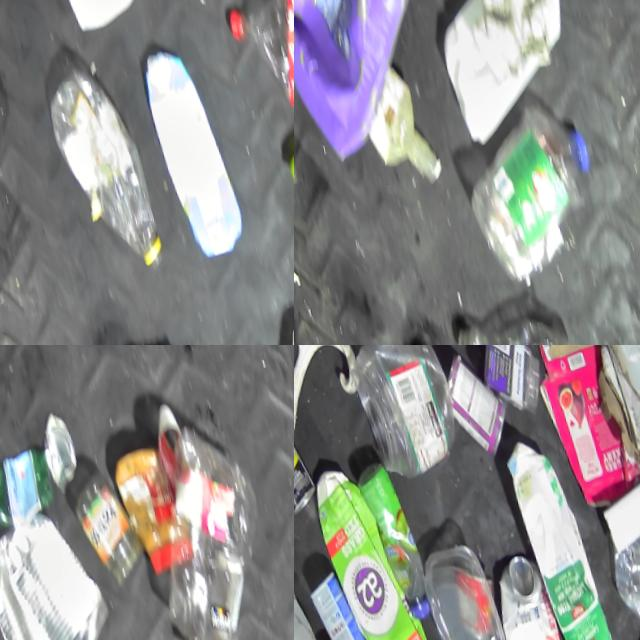can: (436, 359, 508, 461), (489, 564, 569, 640)
milk_jug: (580, 345, 640, 458), (36, 0, 148, 43)
non_white_jug: (294, 0, 449, 178), (303, 471, 417, 640)
plastic_bottle: (449, 98, 609, 286), (27, 57, 156, 278), (225, 0, 294, 163), (0, 448, 57, 544), (598, 512, 640, 640)
